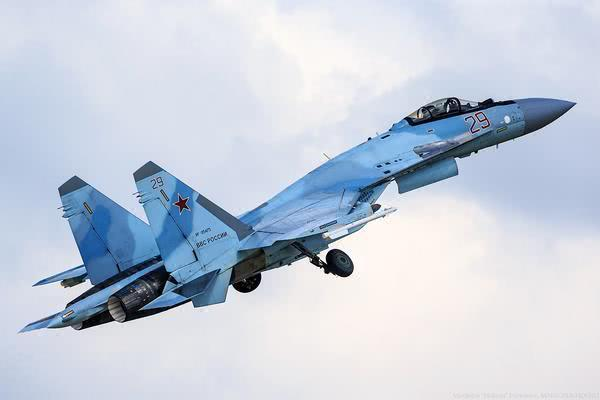airplane: (14, 92, 578, 336)
